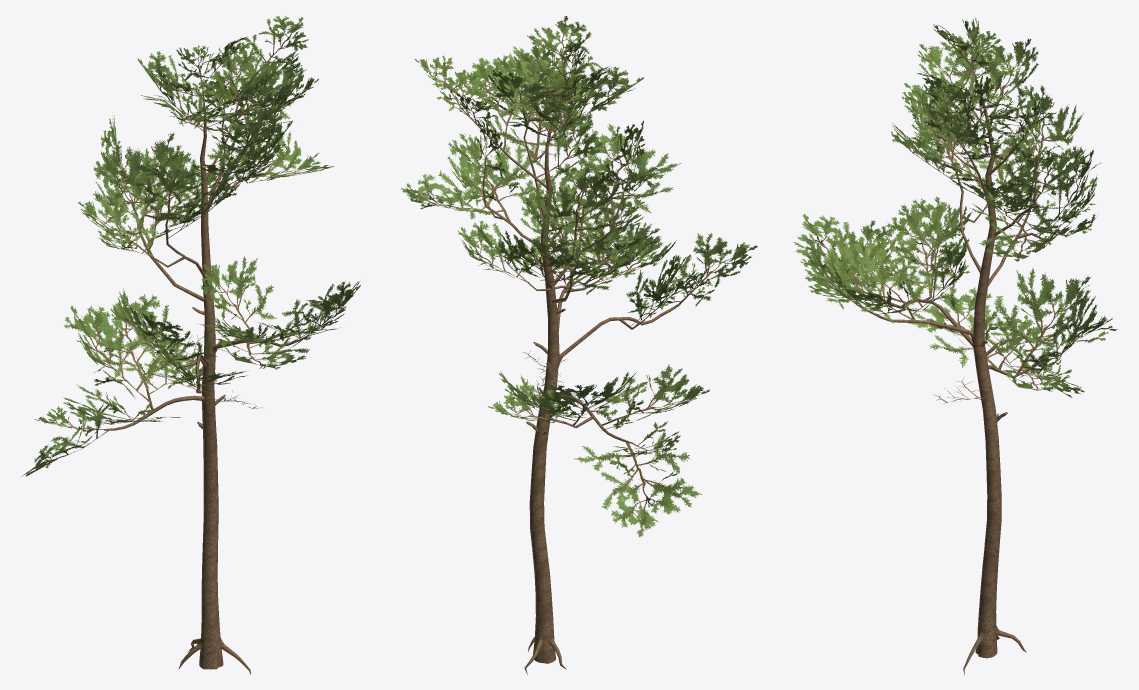
3 renders of one model, left to right at view 1: azimuth 30°, elevation 25°; view 2: azimuth 150°, elevation 25°; view 3: azimuth 270°, elevation 25°, orthographic. The views are drawn at different scales.
Visible parts, largest first — view 1: Pine_medium_3_LOD0_Bark_Mat_0; view 2: Pine_medium_3_LOD0_Bark_Mat_0; view 3: Pine_medium_3_LOD0_Bark_Mat_0.
Boxes of the visible parts, x1,y1,x2,y2 form: Pine_medium_3_LOD0_Bark_Mat_0: (21, 16, 360, 674); Pine_medium_3_LOD0_Bark_Mat_0: (401, 16, 757, 674); Pine_medium_3_LOD0_Bark_Mat_0: (793, 17, 1117, 675).
Bounding box in the file's own units: 5.3 × 10.47 × 5.
